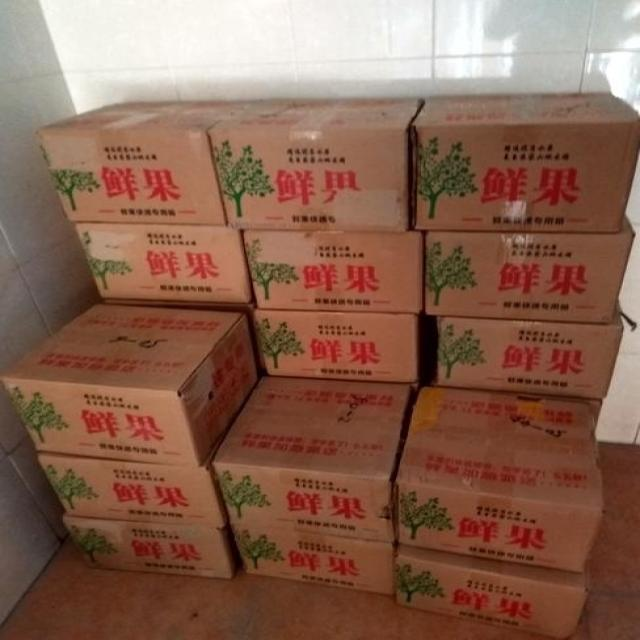box: (1, 304, 261, 466), (396, 385, 605, 572), (212, 377, 413, 543), (409, 94, 640, 232), (34, 99, 264, 226), (209, 96, 421, 232), (425, 216, 637, 325), (393, 544, 591, 638), (437, 304, 624, 399), (241, 228, 424, 314), (35, 453, 228, 529), (73, 223, 252, 303), (256, 310, 418, 383), (64, 515, 241, 579), (231, 527, 397, 594)
